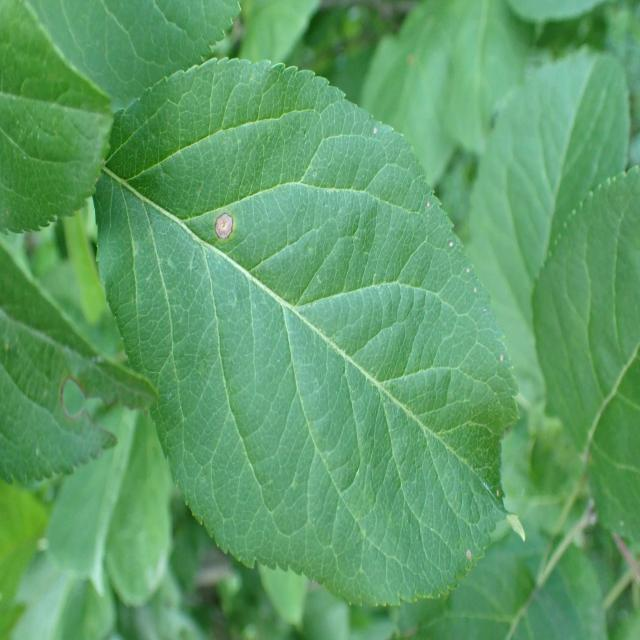Black Rot: (37, 353, 119, 448), (208, 198, 247, 257)
